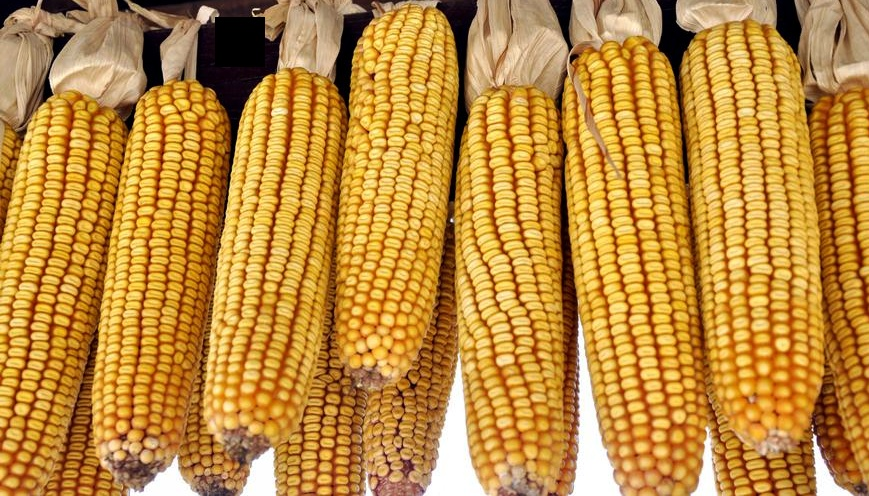corn: (562, 41, 706, 489), (679, 20, 823, 452), (338, 4, 458, 389), (1, 92, 117, 480), (458, 91, 566, 496), (220, 73, 323, 455), (107, 89, 195, 475)
